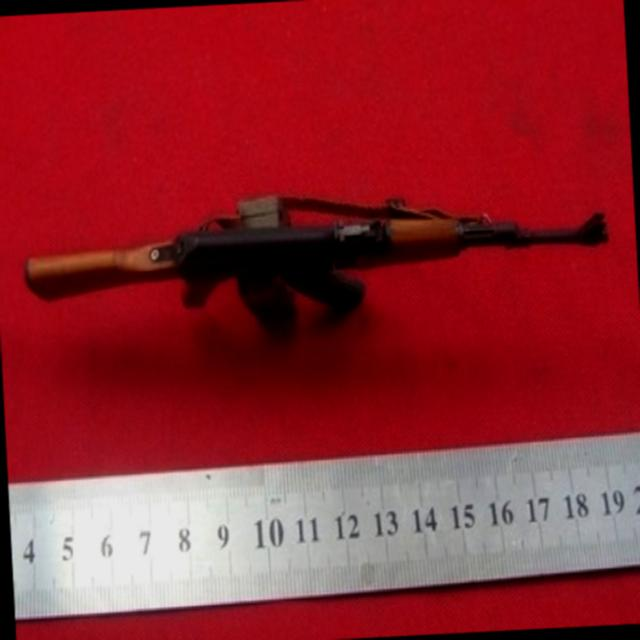ak: (19, 164, 618, 364)
